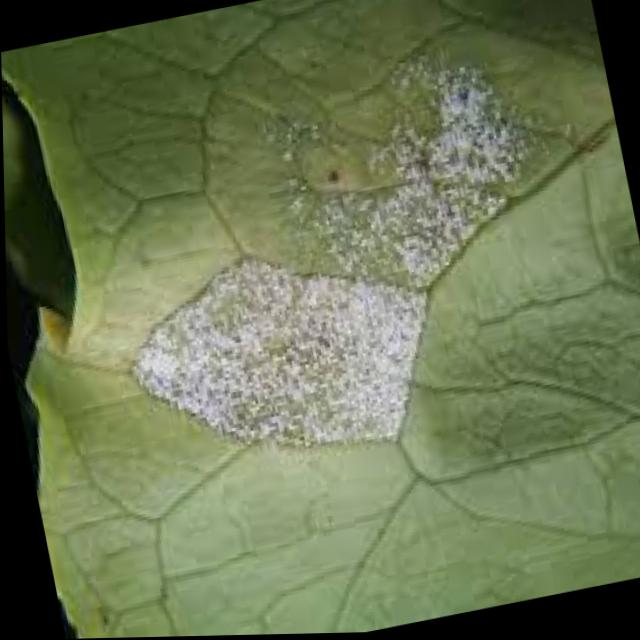Bad: (139, 264, 421, 441), (313, 74, 523, 289)
